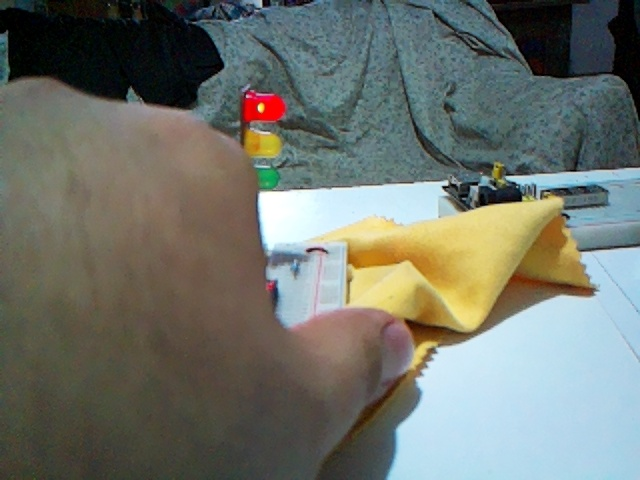traffic_light_green: (239, 88, 286, 189)
